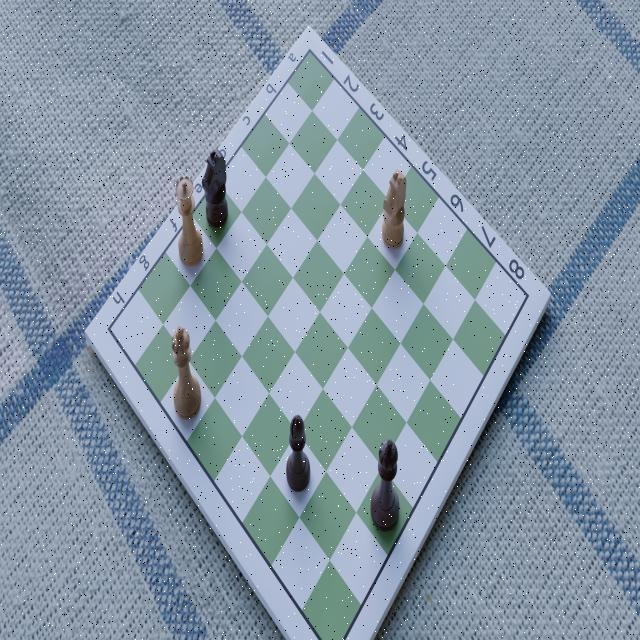black-bishop: (284, 413, 311, 493)
black-king: (370, 438, 400, 533)
black-knight: (202, 148, 229, 228)
white-king: (171, 323, 202, 421)
white-knight: (381, 169, 407, 251)
white-queen: (176, 174, 204, 268)
